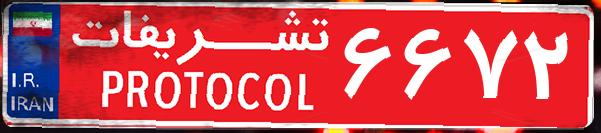2: (520, 20, 580, 115)
6: (340, 20, 400, 115), (400, 20, 460, 115)
7: (460, 20, 520, 115)
تشریفات: (60, 8, 340, 125)
